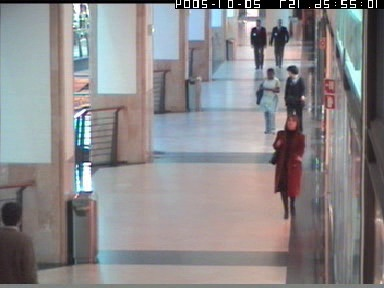person: (270, 114, 304, 220), (0, 202, 38, 284), (283, 64, 306, 132), (256, 68, 280, 133), (267, 19, 289, 68), (250, 20, 267, 70)
